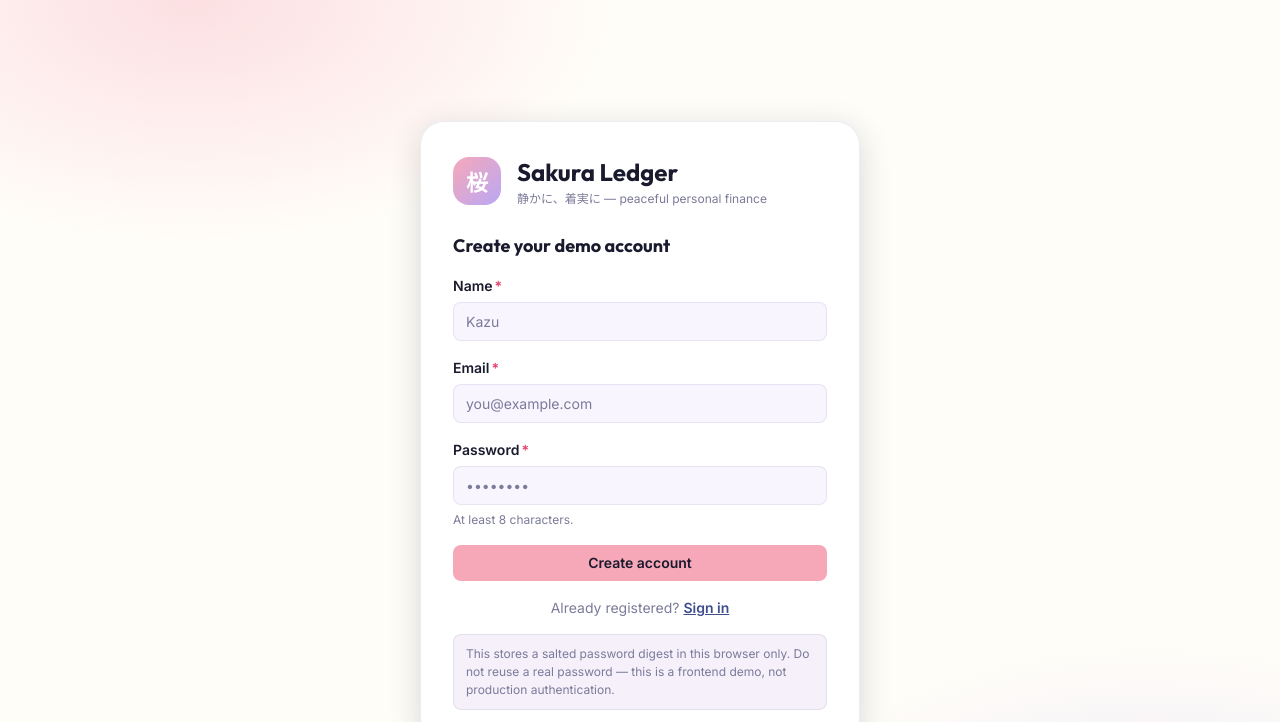
Test: demo authentication flow › registers an account and lands on the dashboard
In the field labelled "Name*": (640, 322) [453,302,827,341], type "Sakura Tester"
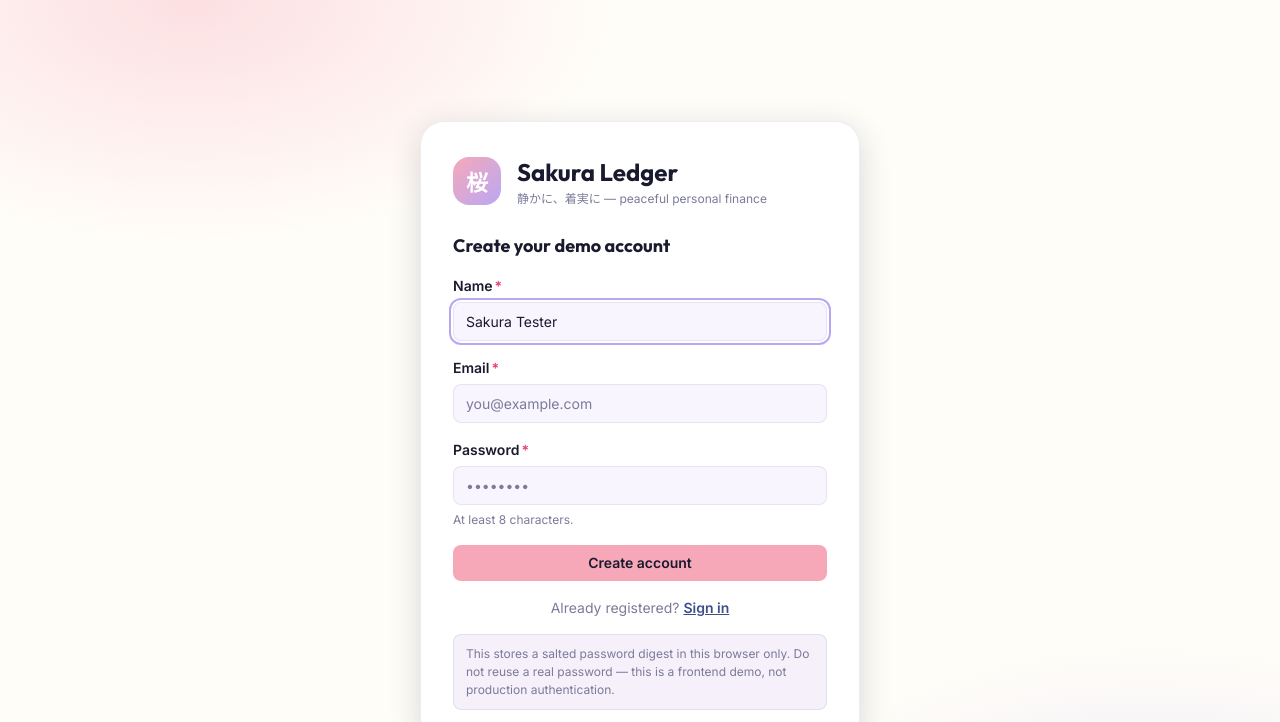
In the field labelled "Email*": (640, 404) [453,384,827,423], type "sakura@example.com"
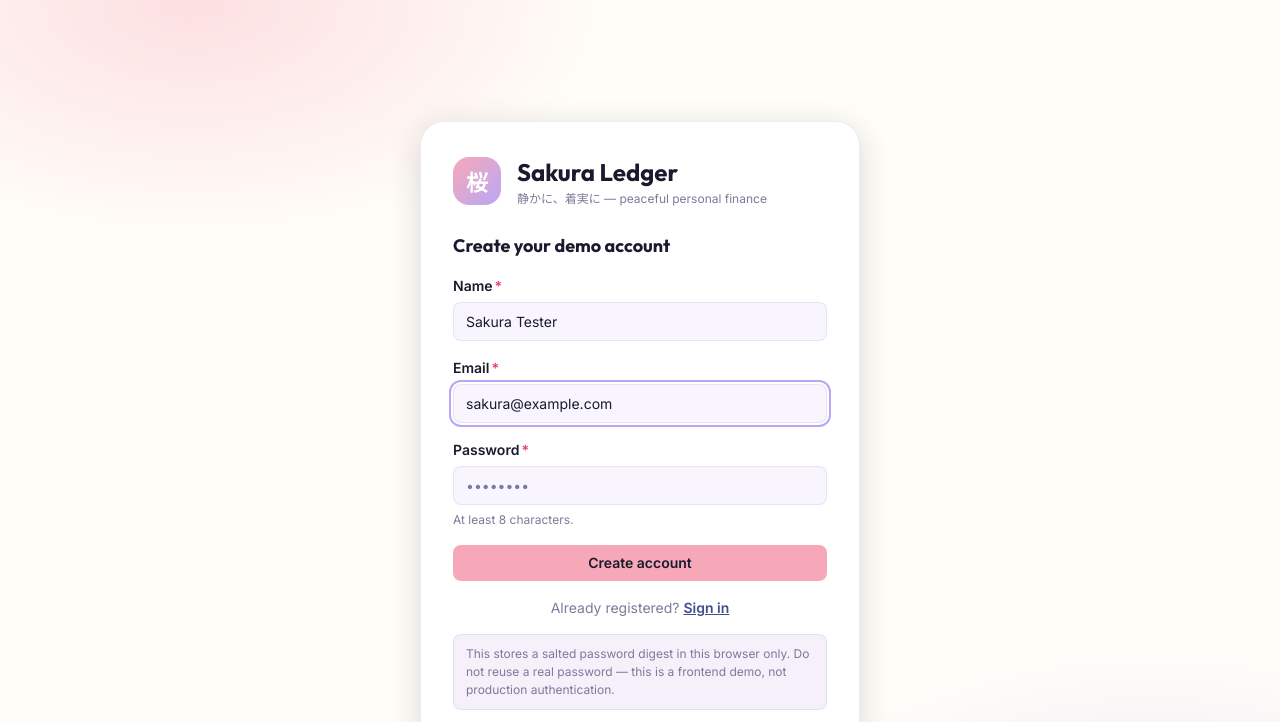
In the password field labelled "Password*": (640, 486) [453,466,827,505], type "supersecret1"
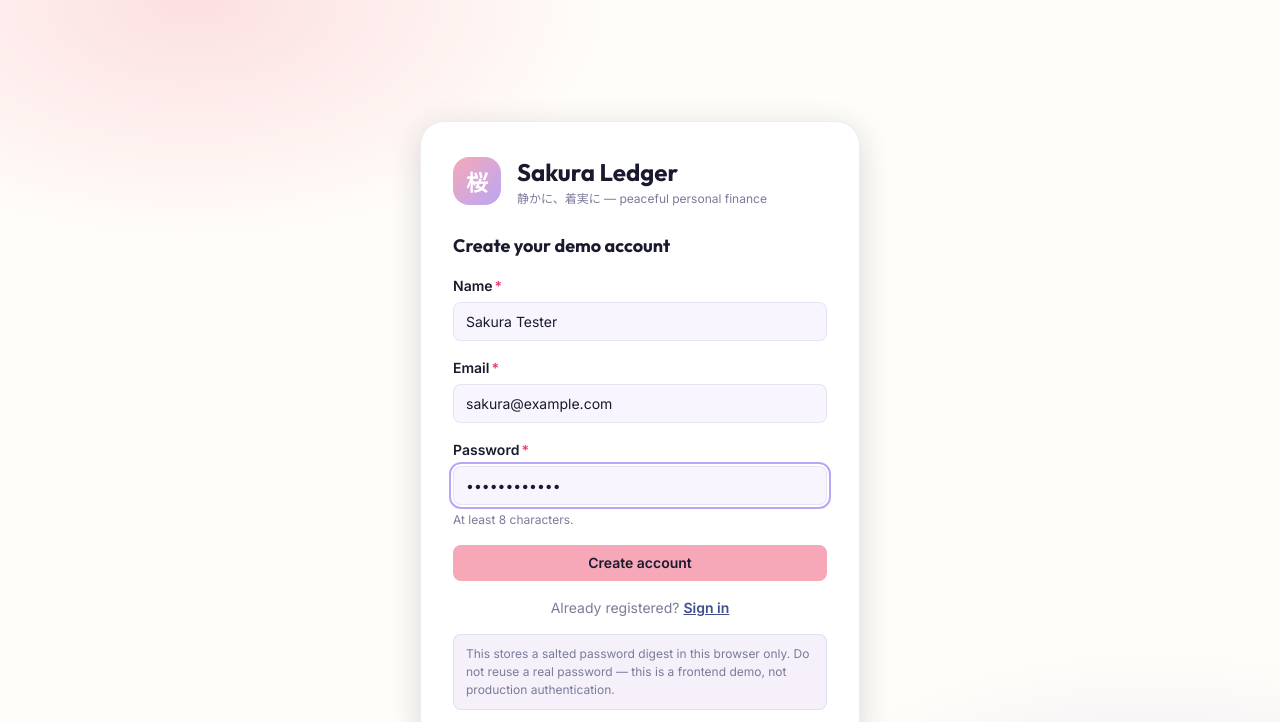
Click the button "Create account": (640, 563) [453,545,827,581]
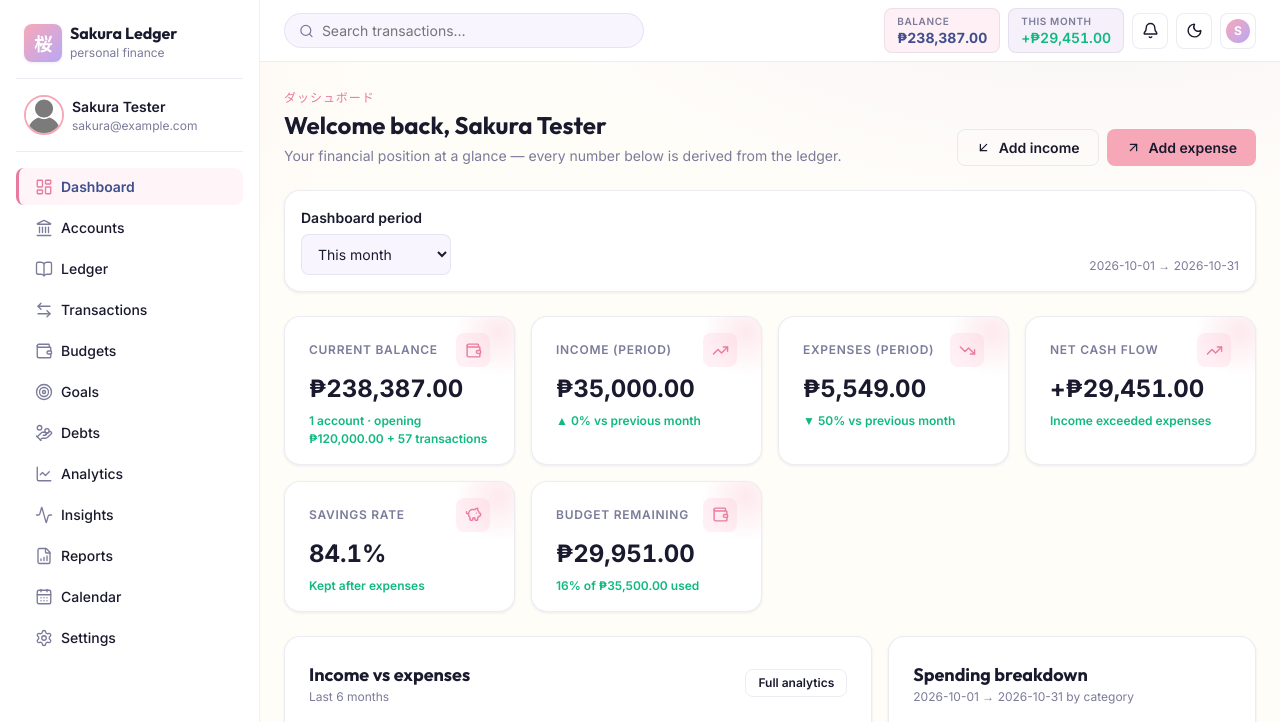
Expected: the heading "Welcome back, Sakura Tester" is shown, [284,110,607,140]
